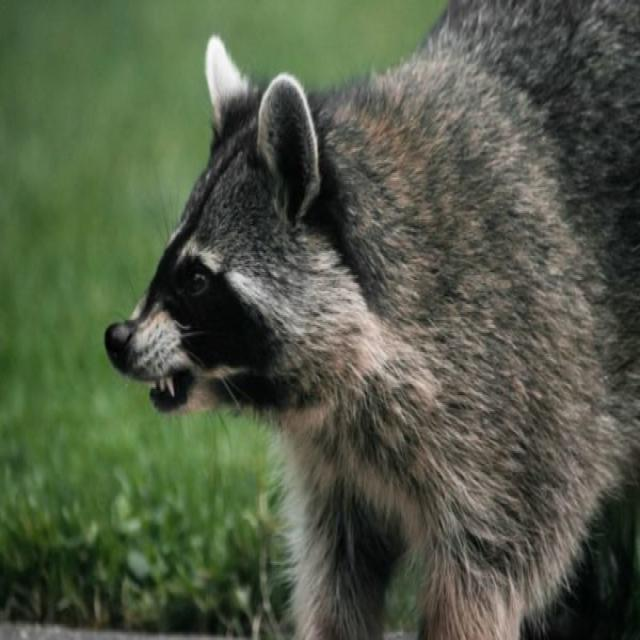Raccoon: (102, 27, 640, 638)
